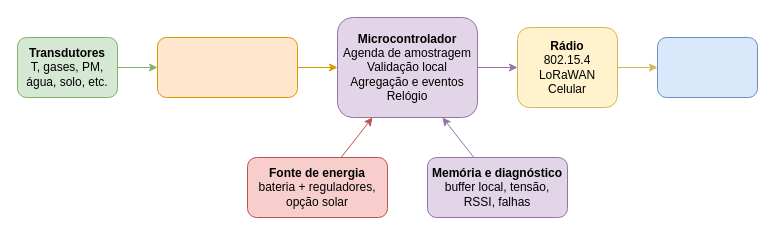
This 775x235 diagram has some shape labels left out. Each missing label, with the centre of its shape:
Interface de aquisição Condicionamento, ADC, interfaces digitais: the point at 227,67
Rede / gateway: the point at 707,67
